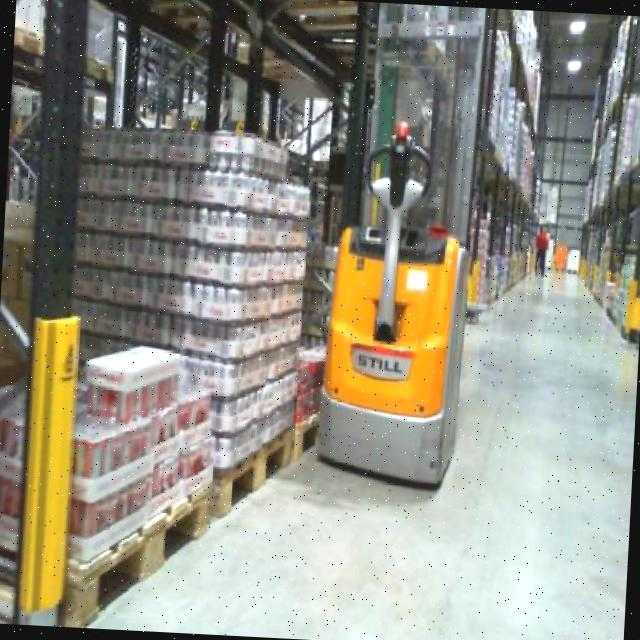pallet: (46, 478, 214, 634), (206, 411, 304, 533)
